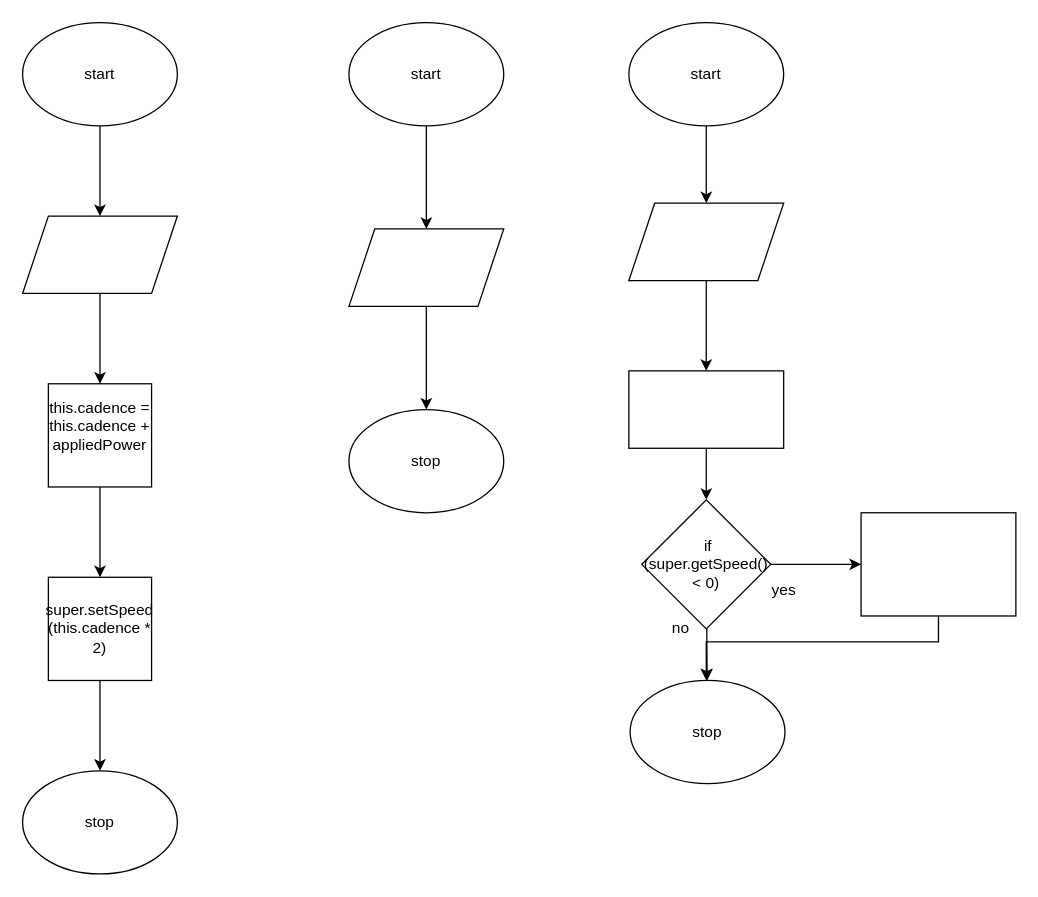
Image size: 1038x897. Some labels were removed from this diagram. The centre of each missing label's shape, as x and y in pixels:
"get app pow" belongs at (99,254).
"get sir press" belongs at (706,241).
"print dig ding" belongs at (426,267).
"super.setSpeed (super.getSpeed() - airPressure / 2)" belongs at (706,409).
"super.setSpeed(0)" belongs at (938,563).
